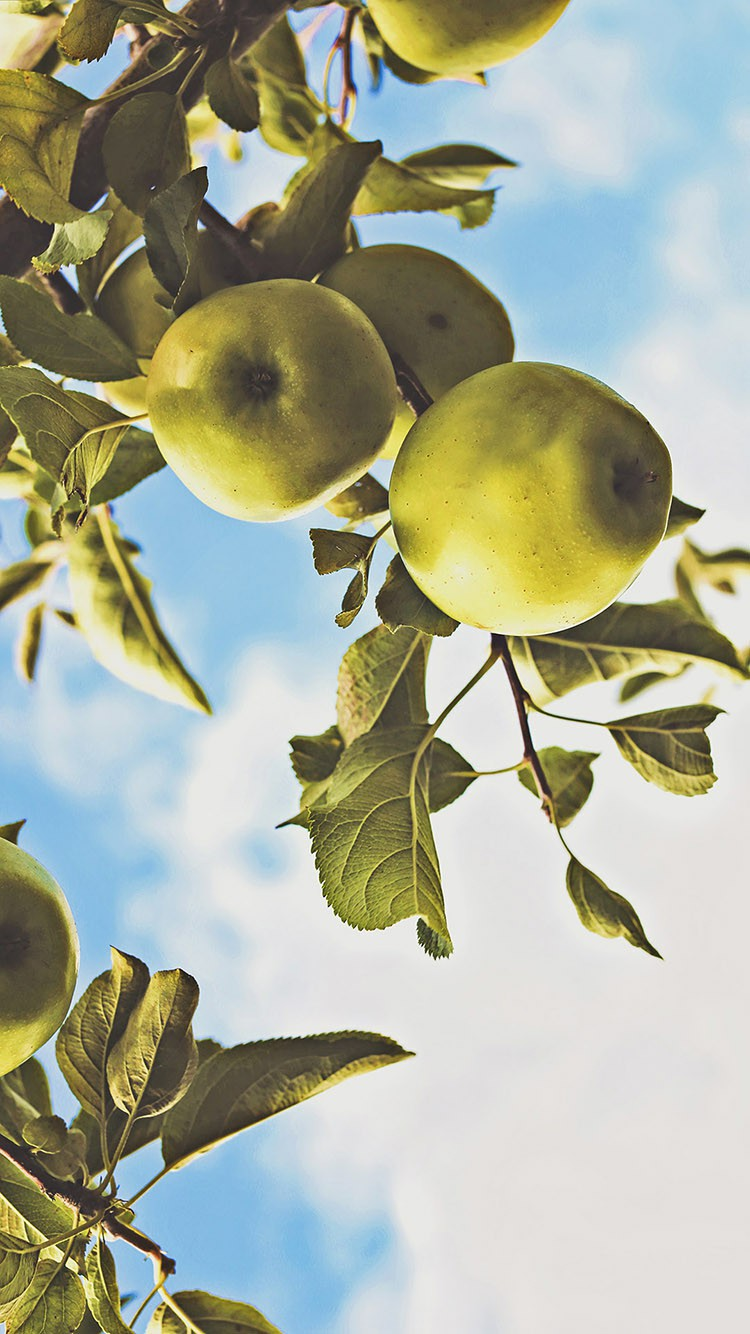pear: (392, 360, 672, 640), (149, 276, 399, 527), (310, 237, 519, 428), (1, 841, 89, 1077), (353, 1, 568, 83)
